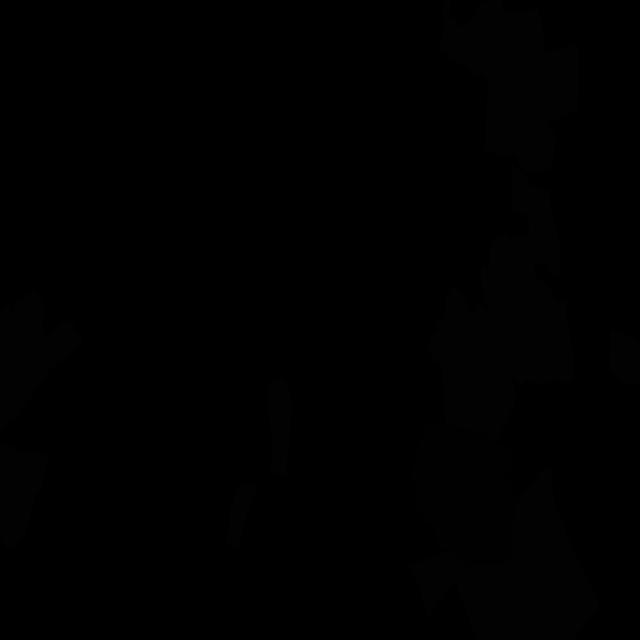cardboard: (456, 467, 600, 640), (440, 0, 579, 174), (480, 233, 574, 388), (428, 287, 517, 442), (0, 290, 84, 432), (511, 164, 561, 278), (0, 443, 48, 548), (408, 551, 470, 620), (267, 379, 292, 477), (226, 482, 257, 548), (609, 329, 640, 386)
rigid_plastic: (409, 423, 515, 565)
